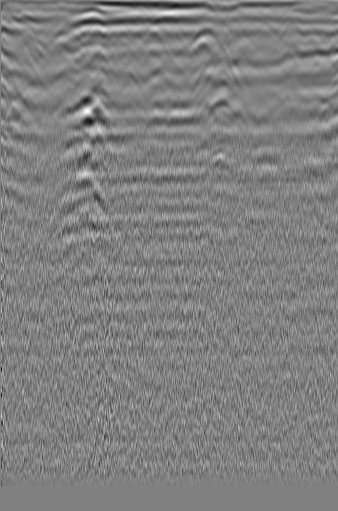가스: (184, 27, 224, 53)
상수: (11, 29, 46, 62)
오수: (269, 90, 304, 119)
우수: (139, 195, 166, 219)
